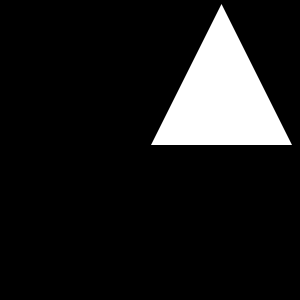triangle: (151, 4, 292, 145)
